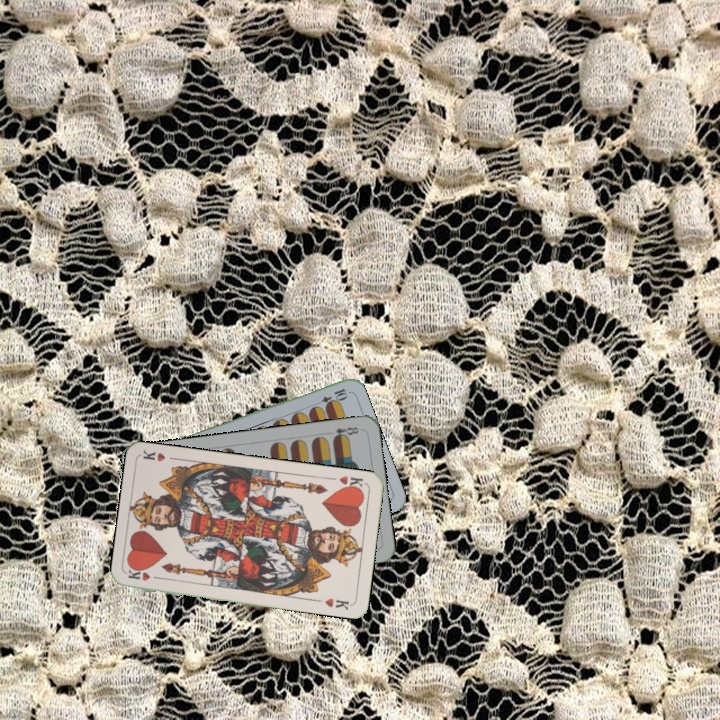E10: (310, 384, 350, 409)
E8: (323, 423, 362, 442)
HK: (125, 565, 165, 584), (335, 472, 368, 493)
